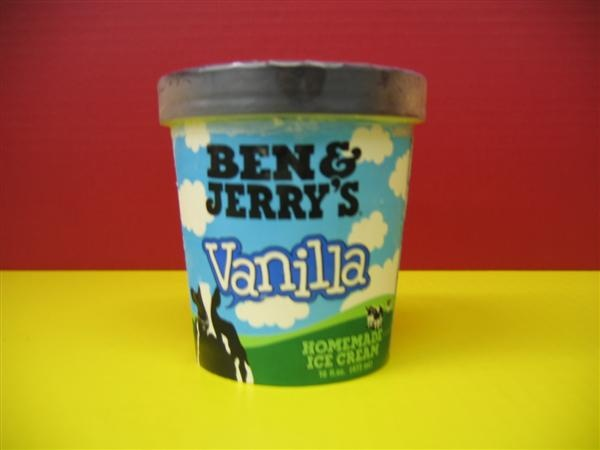grozi_118: (158, 59, 598, 447)
